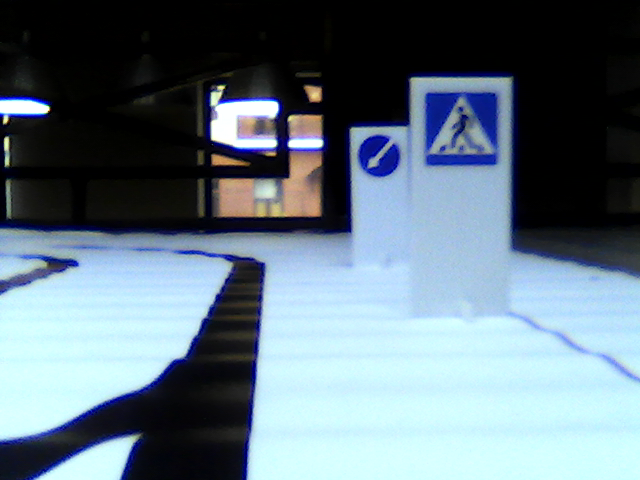pesh: (424, 91, 497, 165)
prep: (356, 134, 401, 177)
